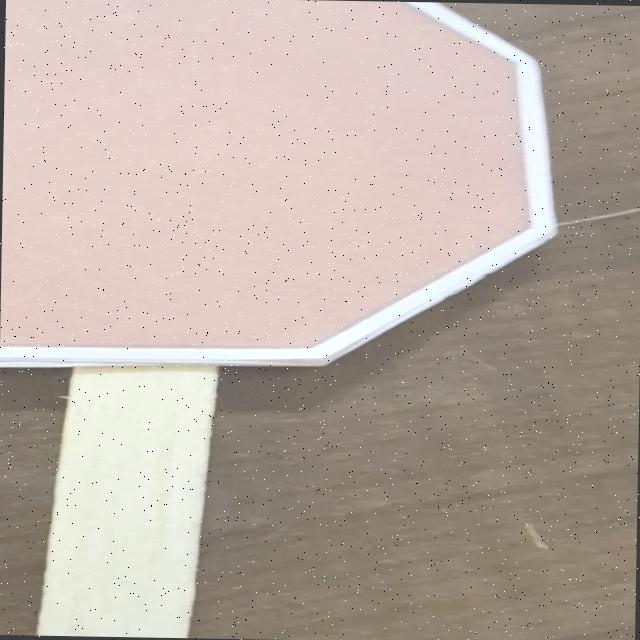Stop: (0, 0, 565, 381)
